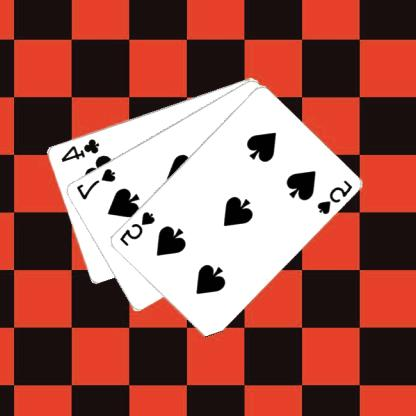4C: (60, 136, 102, 163)
5S: (118, 209, 158, 247), (316, 178, 355, 216)
7S: (75, 165, 118, 201)
